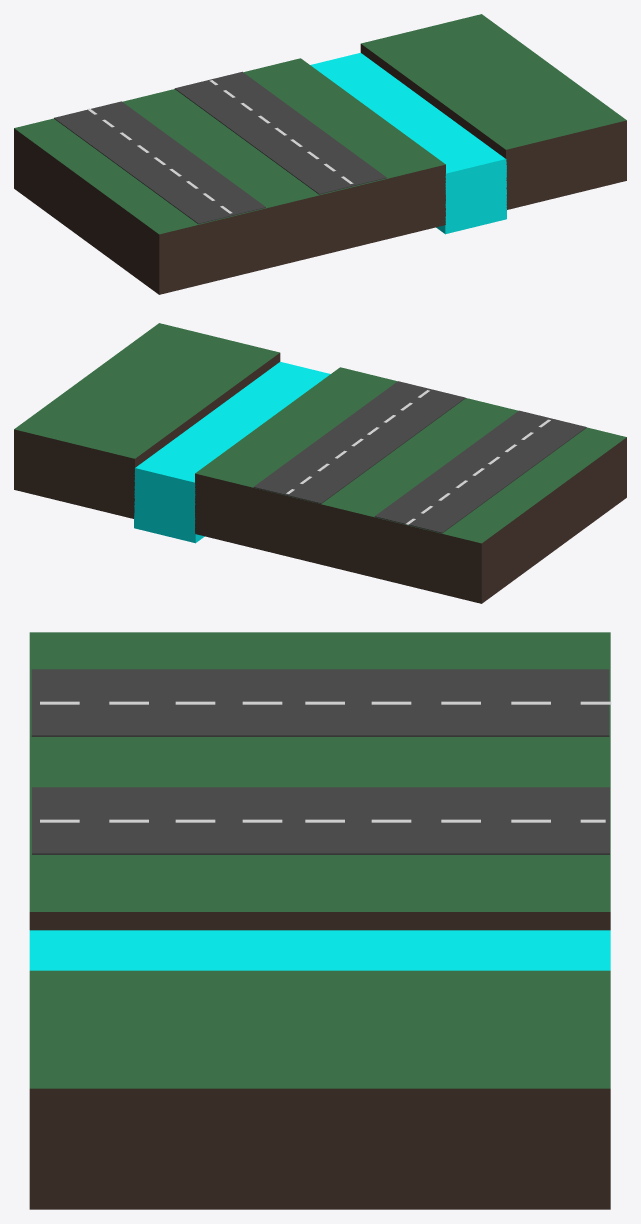
Rendered from level.gltf.
The picture shows the model from 3 angles, top to bottom: view 1: azimuth 30°, elevation 25°; view 2: azimuth 150°, elevation 25°; view 3: azimuth 270°, elevation 25°; orthographic projection. The views are drawn at different scales.
Parts seen in each view (by area): view 1: tierra; view 2: tierra; view 3: tierra.
Boxes of the visible parts, x1,y1,x2,y2 form: tierra: (14, 14, 626, 294); tierra: (14, 323, 626, 603); tierra: (29, 632, 611, 1209).
Size of the model in its own units: 304 by 43.82 by 164.
